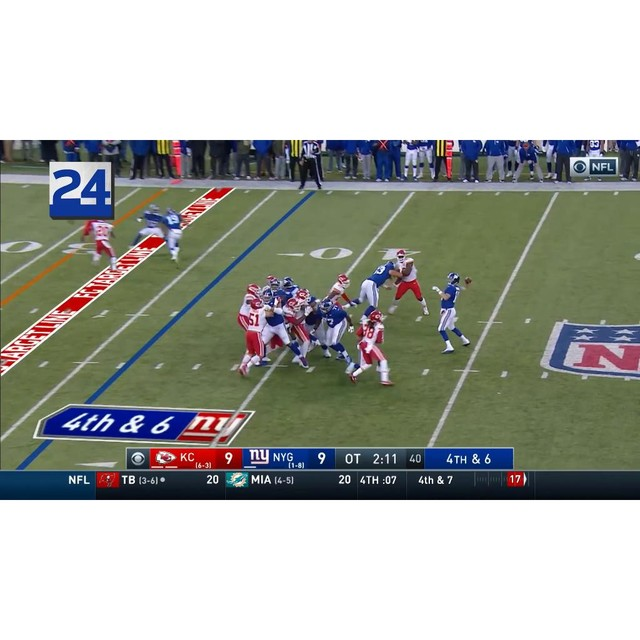american-football-player: (346, 257, 397, 322), (261, 295, 305, 370), (432, 272, 472, 354), (350, 312, 392, 387), (388, 249, 429, 317), (317, 297, 354, 370), (235, 296, 268, 377), (284, 296, 315, 357), (87, 218, 118, 270), (162, 206, 184, 264), (135, 203, 167, 242), (323, 272, 354, 308), (261, 275, 285, 310)
referee: (297, 140, 324, 191)
